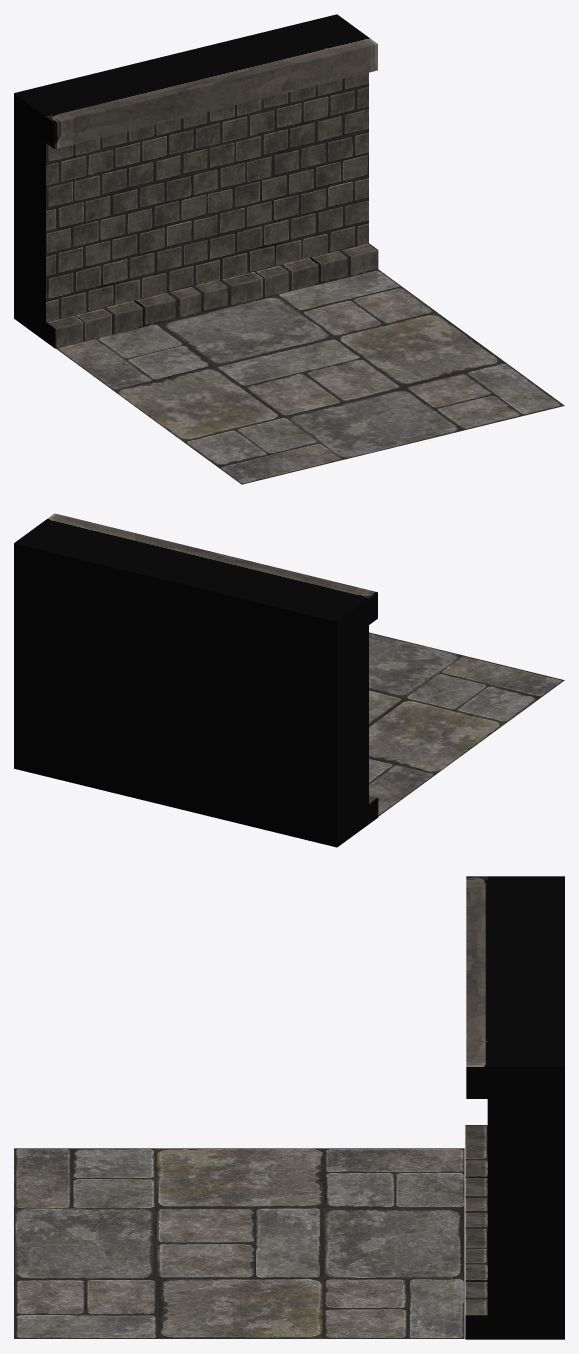
The model's file is ModularStraight02.fbx.
3 views of the same model, one above another, from view 1: azimuth 30°, elevation 25°; view 2: azimuth 150°, elevation 25°; view 3: azimuth 270°, elevation 25° (orthographic). The views are drawn at different scales.
Visible parts, largest first — view 1: Plane, Plane.001; view 2: Plane, Plane.001; view 3: Plane.001, Plane.
Part boxes in pixels (x1,y1,x2,y2): Plane: (14, 14, 378, 348); Plane.001: (56, 269, 564, 484); Plane: (14, 513, 378, 847); Plane.001: (369, 632, 564, 816); Plane.001: (14, 1148, 464, 1338); Plane: (465, 876, 564, 1339).
Bounding box in the file's own units: 3 × 2 × 3.66.
Materials: 2 (2 with a texture image).
